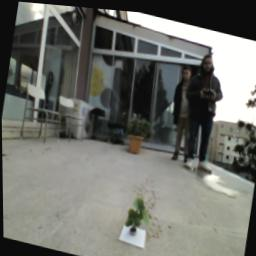herb: (124, 191, 154, 234)
